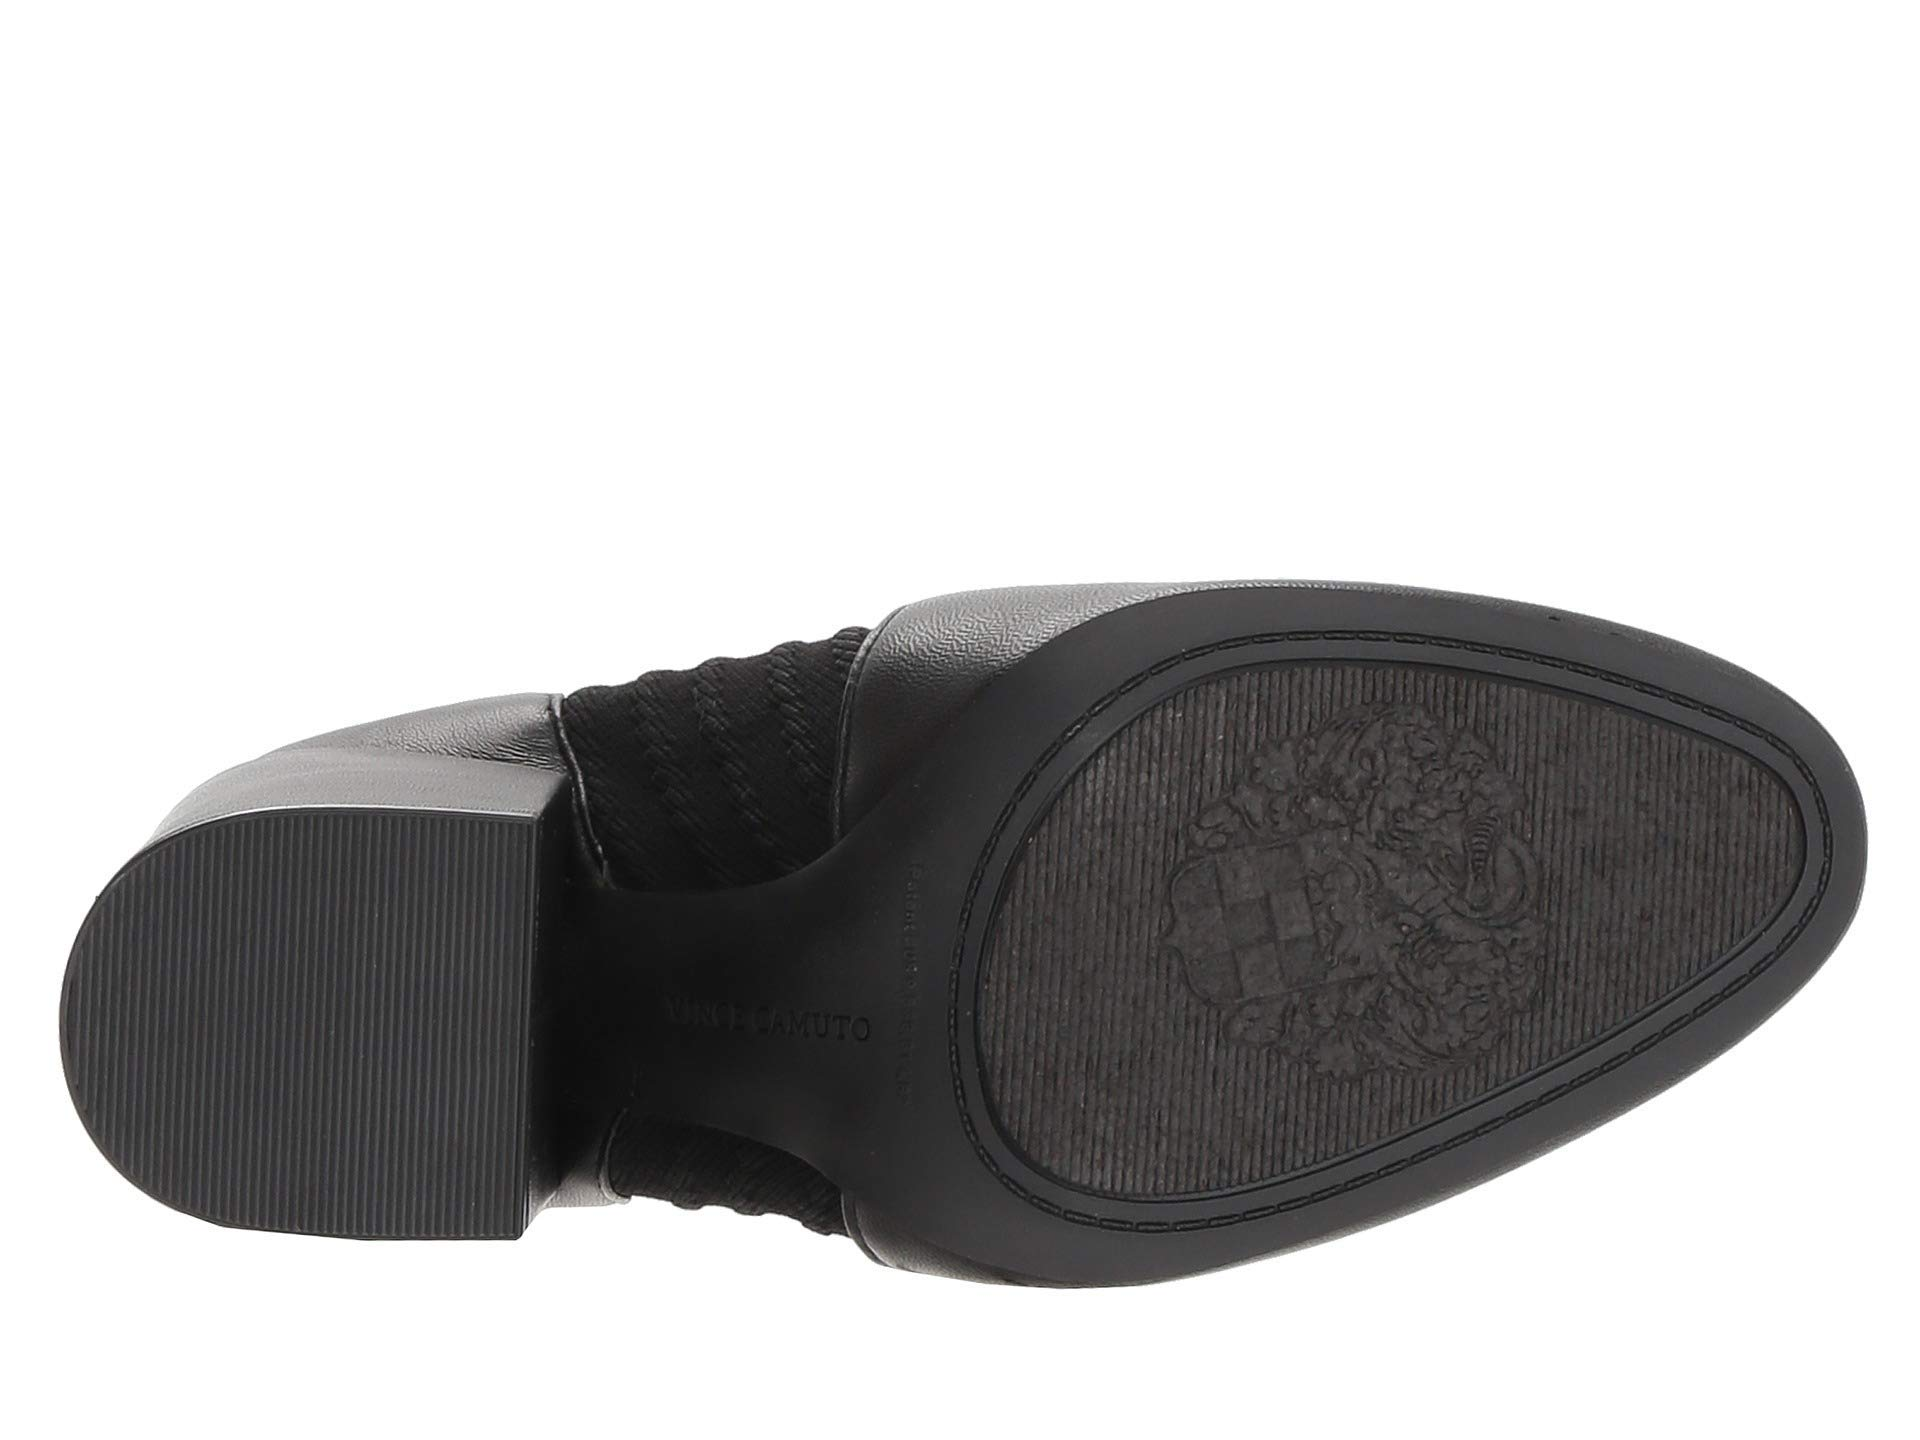line: (1095, 776, 1374, 1080)
quad: (1095, 776, 1374, 1080)
